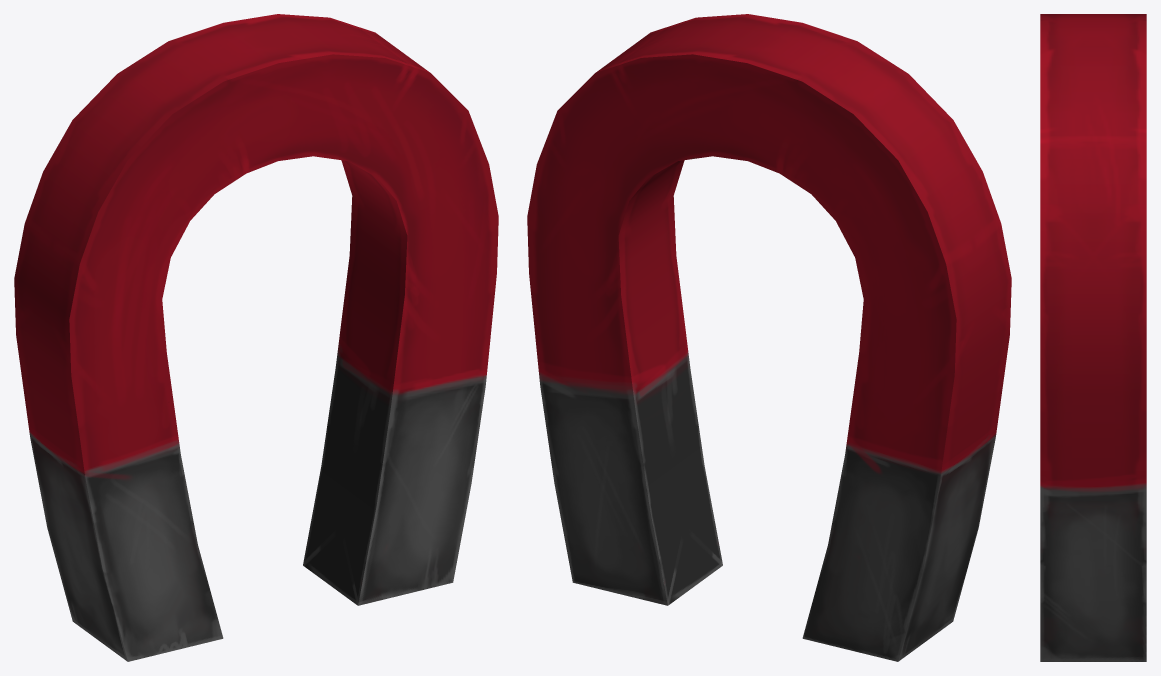
Rendered from Imán.fbx.
3 renders of one model, left to right at view 1: azimuth 30°, elevation 25°; view 2: azimuth 150°, elevation 25°; view 3: azimuth 270°, elevation 25°, orthographic. The views are drawn at different scales.
Visible parts, largest first — view 1: Cubo; view 2: Cubo; view 3: Cubo.
Part boxes in pixels (bbox=[...]): Cubo: bbox=[14, 14, 498, 661]; Cubo: bbox=[527, 14, 1011, 661]; Cubo: bbox=[1040, 14, 1146, 661].
Bounding box in the file's own units: 594 × 743 × 132.
